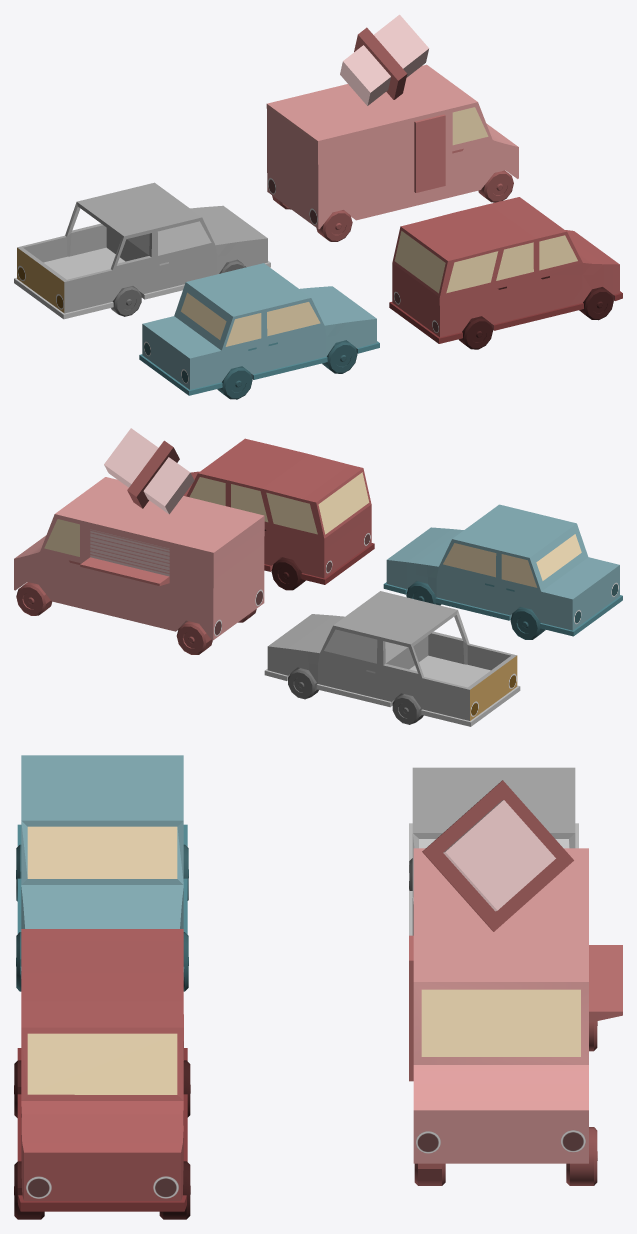
File: Carros (4).FBX
3 views of the same model, one above another, from view 1: azimuth 30°, elevation 25°; view 2: azimuth 150°, elevation 25°; view 3: azimuth 270°, elevation 25° (orthographic). The views are drawn at different scales.
Visible parts, largest first — view 1: Cylinder011, Box021, Box017, Box020; view 2: Cylinder011, Box017, Box020, Box021; view 3: Cylinder011, Box021, Box020, Box017.
Part boxes in pixels (x1,y1,x2,y2): Cylinder011: (266,14,518,241); Box021: (389,197,622,349); Box017: (14,182,270,319); Box020: (139,263,379,399); Cylinder011: (14,428,264,654); Box017: (264,591,520,726); Box020: (383,504,622,639); Box021: (183,438,374,590); Cylinder011: (409,780,622,1185); Box021: (14,929,190,1219); Box020: (16,755,188,991); Box017: (409,767,578,935).
Bounding box in the file's own units: 140 × 63.33 × 94.68.
